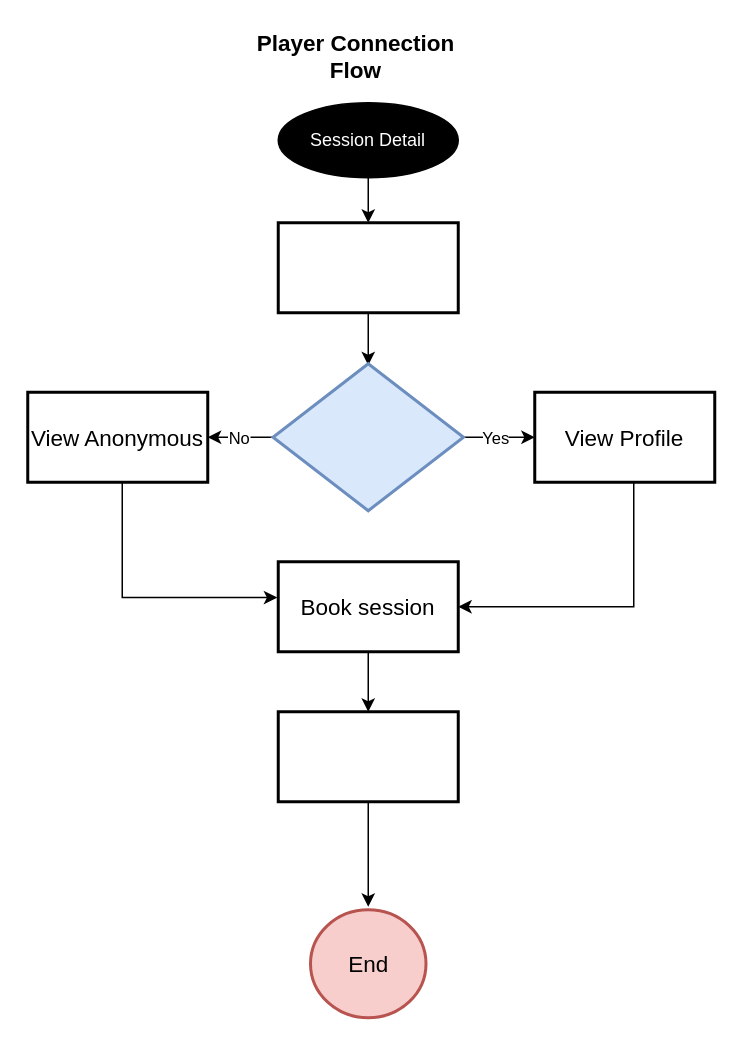
The diagram is 741 pixels wide and 1044 high, and some of its shapes have lost their labels. Here are the shapes that lost their labels. From the top down, the box of each, then its label:
(276, 220, 459, 314): View Attendees
(271, 362, 464, 512): Does Player have a profile
(276, 710, 459, 802): Booking Confirmed
